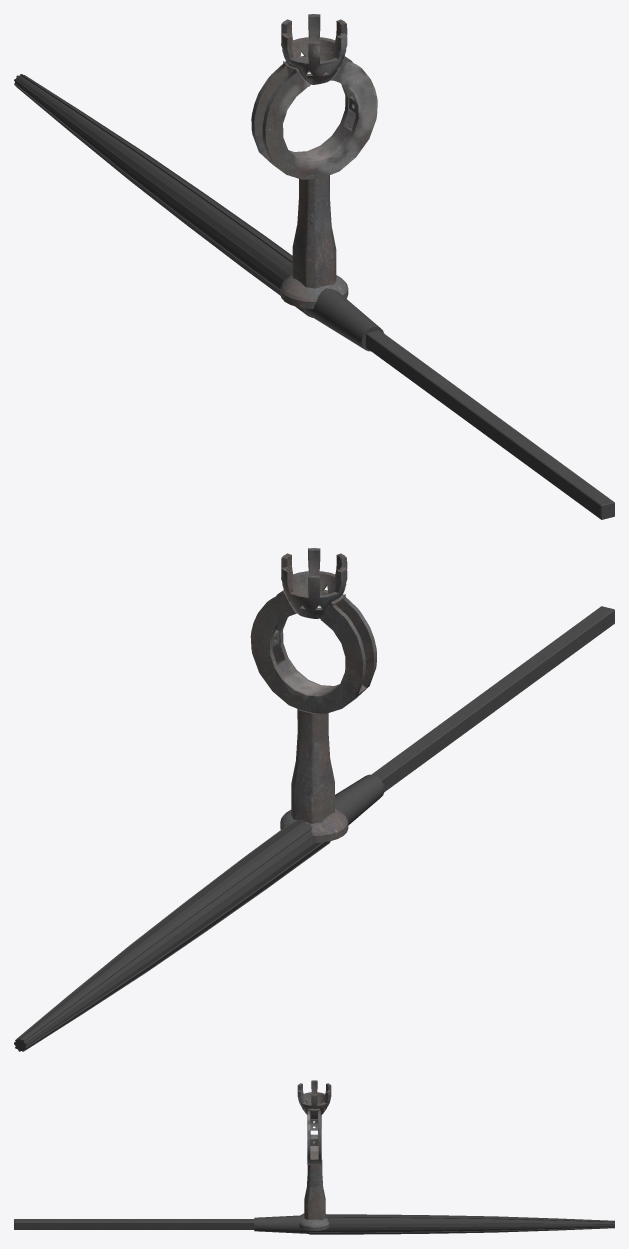
3 renders of one model, top to bottom at view 1: azimuth 30°, elevation 25°; view 2: azimuth 150°, elevation 25°; view 3: azimuth 270°, elevation 25°, orthographic. The views are drawn at different scales.
Parts seen in each view (by area): view 1: 401_BanYueCuo, 401_YinJie, 401_YinJie_JuChu; view 2: 401_BanYueCuo, 401_YinJie, 401_YinJie_JuChu; view 3: 401_BanYueCuo, 401_YinJie, 401_YinJie_JuChu.
Part boxes in pixels (left/top/right/bottom): 401_BanYueCuo: left=14, top=74, right=614, bottom=519; 401_YinJie: left=251, top=14, right=377, bottom=179; 401_YinJie_JuChu: left=280, top=175, right=348, bottom=308; 401_BanYueCuo: left=14, top=606, right=614, bottom=1051; 401_YinJie: left=250, top=548, right=376, bottom=713; 401_YinJie_JuChu: left=280, top=709, right=348, bottom=842; 401_BanYueCuo: left=14, top=1214, right=614, bottom=1234; 401_YinJie: left=297, top=1080, right=331, bottom=1164; 401_YinJie_JuChu: left=299, top=1160, right=329, bottom=1230.
Bounding box in the file's own units: 2.21 × 5.35 × 20.
Materials: 2 (2 with a texture image).
